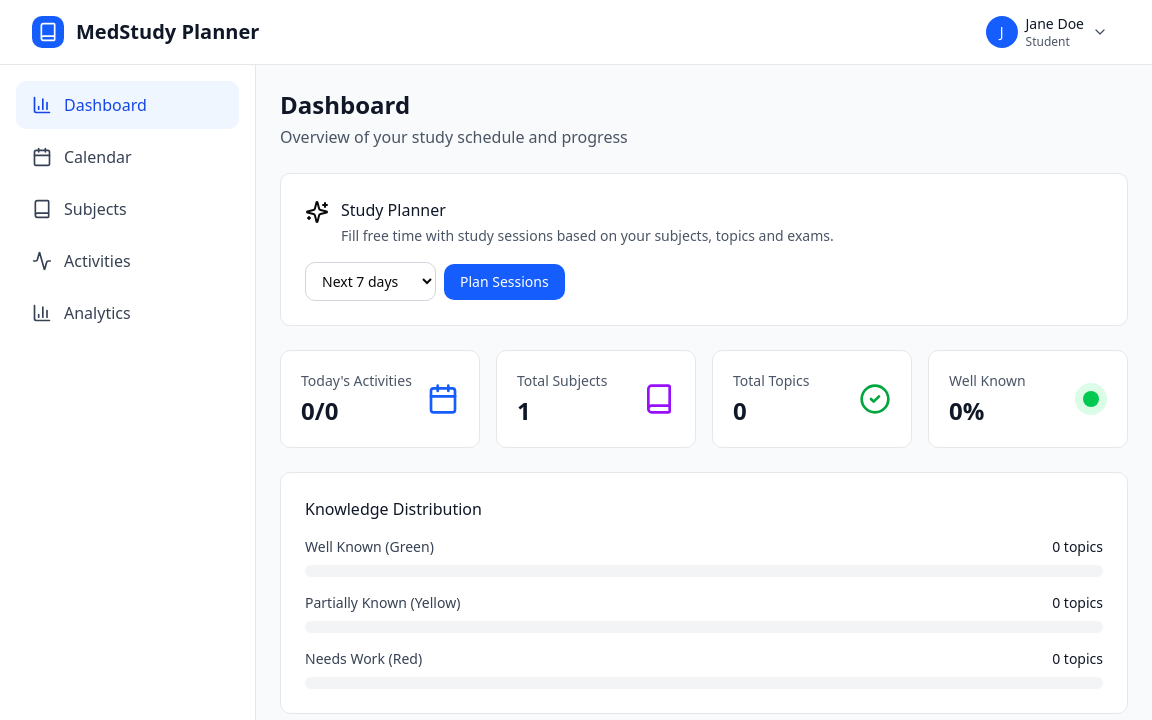
Scenario: SubjectsView › an expanded subject without topics says so
Check: the heading "Dashboard" is shown, box [280,88,410,121]
Click the button "Subjects". click: (128, 209)
box: [16,185,239,233]
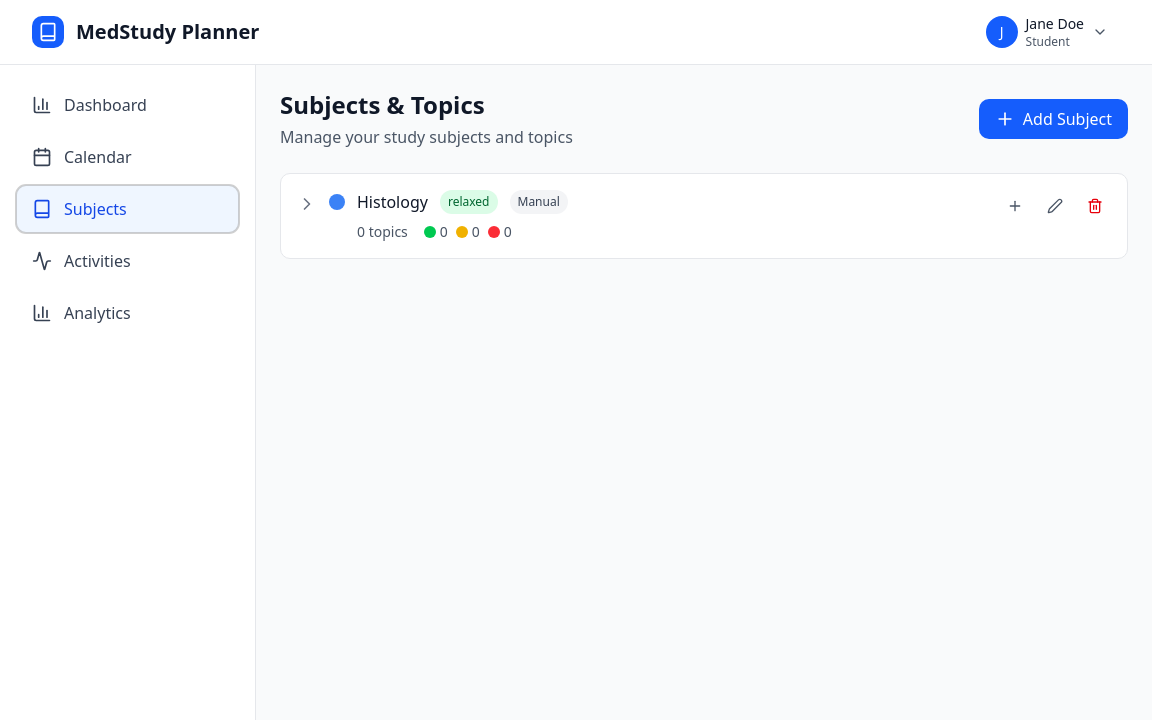
Click the heading "Histology". click: (392, 202)
box: [357,190,428,214]
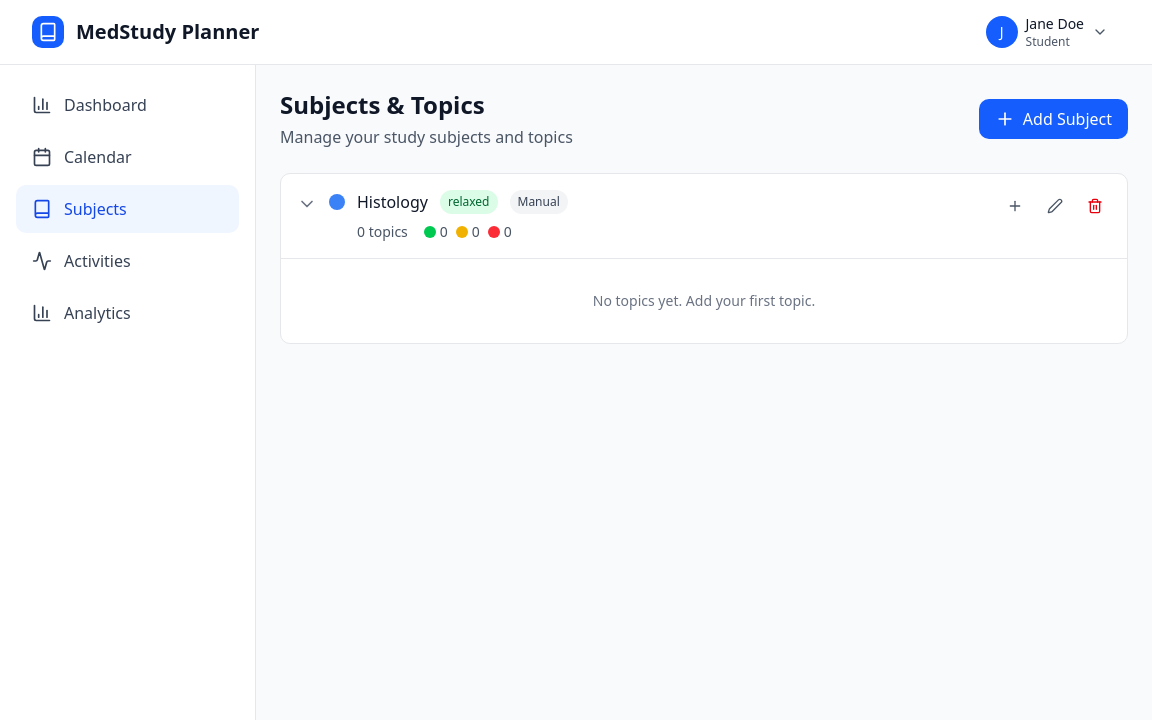
Check: the text "No topics yet. Add your first topic." is shown, box [593,291,815,310]
